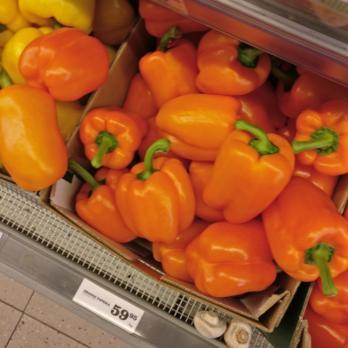Capsicum: (219, 62, 348, 306), (127, 29, 226, 253), (0, 0, 109, 187)
